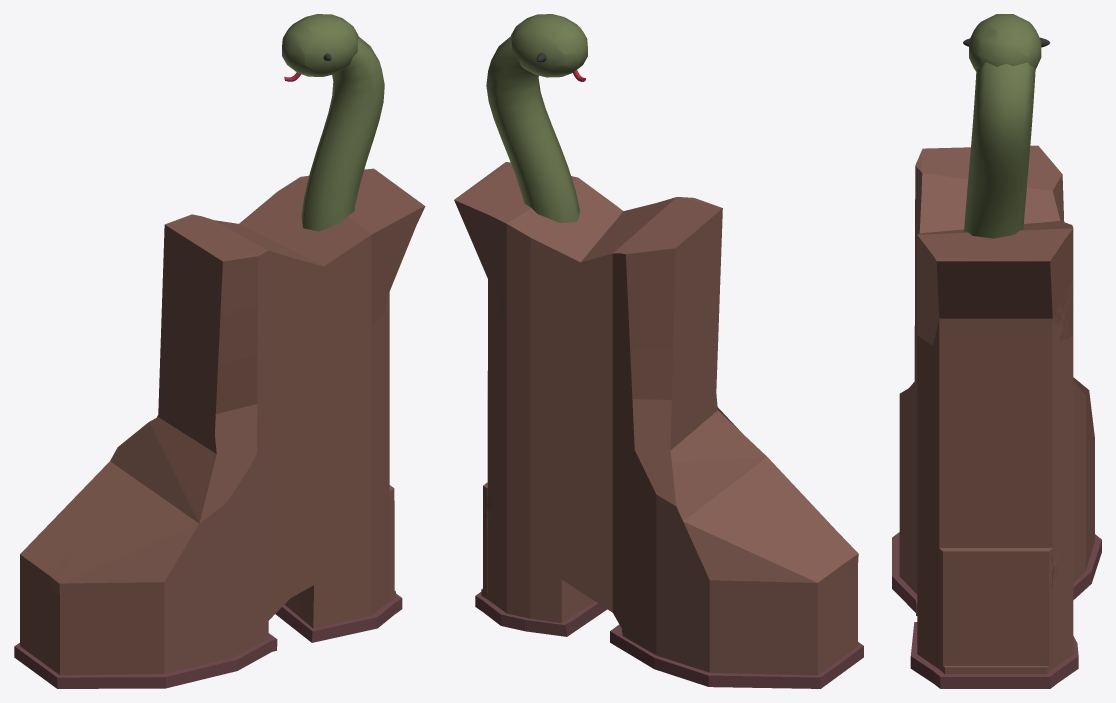
The model's file is SnakeNOTinBoot.fbx.
3 views of the same model, side by side, from view 1: azimuth 30°, elevation 25°; view 2: azimuth 150°, elevation 25°; view 3: azimuth 270°, elevation 25° (orthographic). The views are drawn at different scales.
Parts seen in each view (by area): view 1: Cube, BézierCurve, Cube.001, Mball; view 2: Cube, BézierCurve, Cube.001, Mball; view 3: Cube, BézierCurve, Cube.001, Mball.
Boxes of the visible parts, bbox=[...] form: Cube: bbox=[20, 168, 425, 675]; BézierCurve: bbox=[301, 36, 384, 231]; Cube.001: bbox=[14, 593, 402, 688]; Mball: bbox=[282, 14, 358, 76]; Cube: bbox=[454, 162, 858, 675]; BézierCurve: bbox=[486, 36, 579, 222]; Cube.001: bbox=[475, 592, 863, 688]; Mball: bbox=[511, 14, 587, 77]; Cube: bbox=[899, 145, 1094, 674]; BézierCurve: bbox=[964, 62, 1035, 238]; Cube.001: bbox=[892, 532, 1101, 688]; Mball: bbox=[969, 14, 1041, 71].
Size of the model in its own units: 1548 by 2380 by 707.
